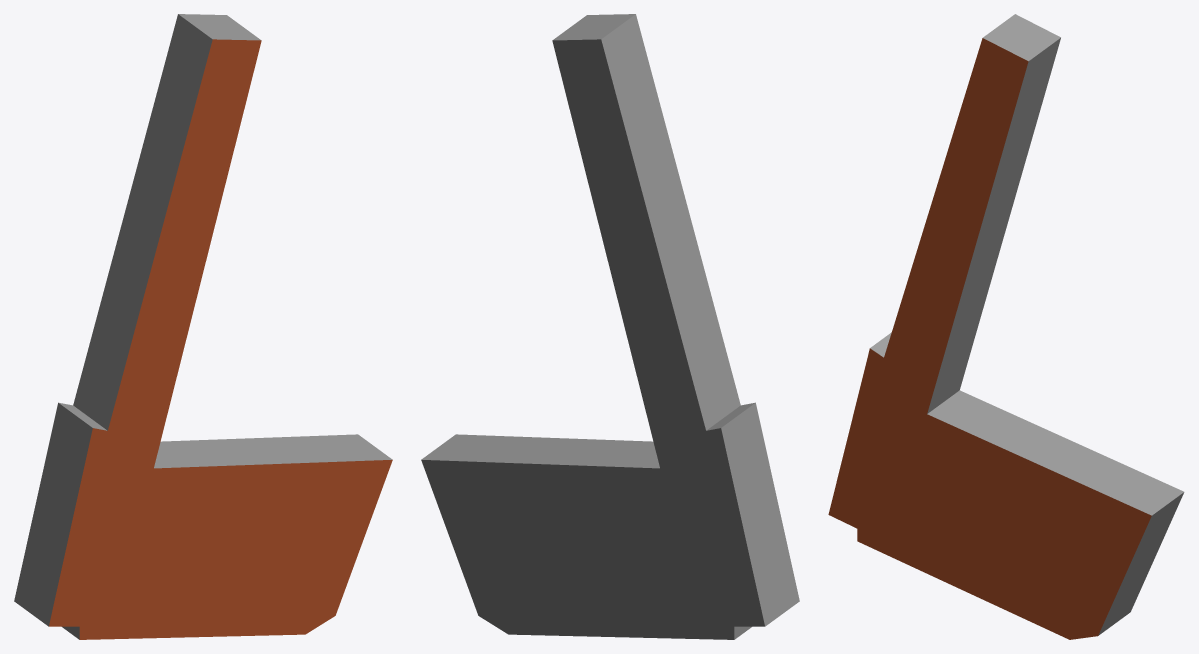
File: construction_4169_assumed_A_Casa_h6m.obj
The picture shows the model from 3 angles, left to right: view 1: azimuth 30°, elevation 25°; view 2: azimuth 150°, elevation 25°; view 3: azimuth 330°, elevation 25°; orthographic projection. The views are drawn at different scales.
Parts seen in each view (by area): view 1: construction_4169_assumed_A_Casa; view 2: construction_4169_assumed_A_Casa; view 3: construction_4169_assumed_A_Casa.
Boxes of the visible parts, x1,y1,x2,y2 form: construction_4169_assumed_A_Casa: (14, 14, 392, 639); construction_4169_assumed_A_Casa: (421, 14, 799, 639); construction_4169_assumed_A_Casa: (828, 14, 1184, 639).
Size of the model in its own units: 34.34 by 58.93 by 6.
